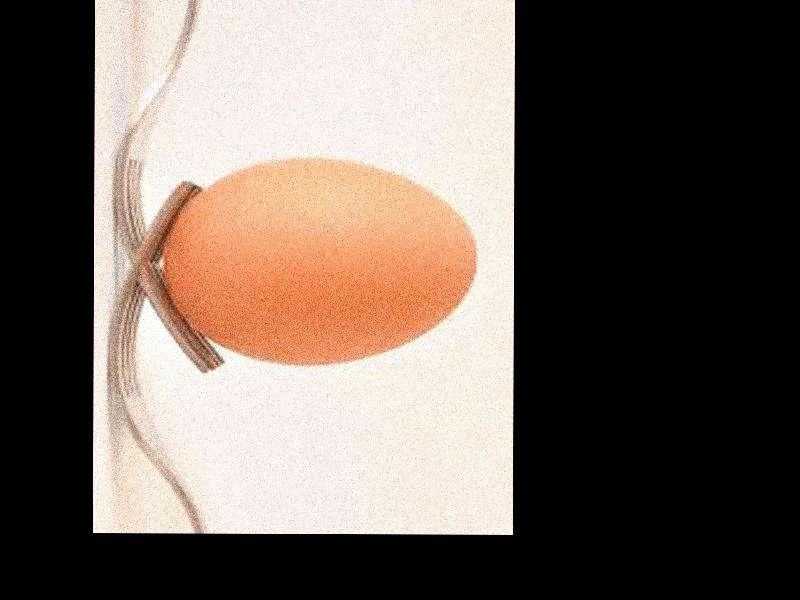Eggs: (163, 157, 476, 365)
